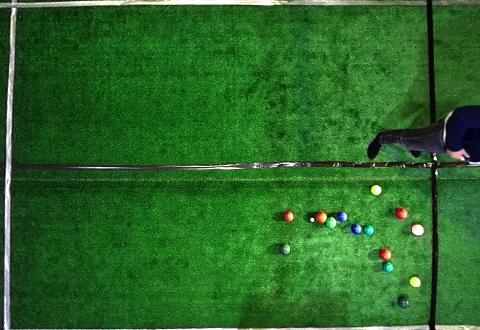blue: (351, 224, 362, 234), (337, 212, 348, 222)
green: (398, 297, 410, 308), (279, 244, 290, 255), (325, 217, 336, 228), (363, 225, 374, 236), (382, 262, 393, 272)
red: (378, 248, 392, 261), (412, 224, 424, 236), (395, 208, 408, 219), (316, 211, 327, 223), (284, 211, 294, 222)
vline: (430, 154, 479, 329), (426, 0, 479, 125), (0, 0, 20, 329)
white: (310, 217, 315, 222)
yellow: (409, 277, 421, 287), (371, 185, 382, 195)
